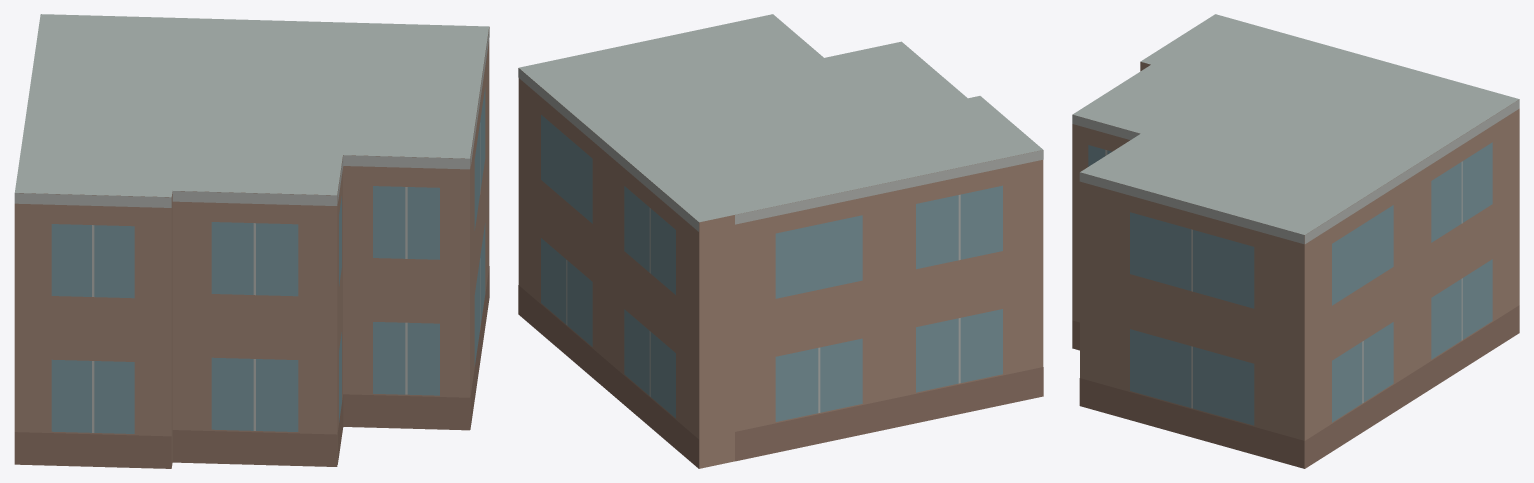
Rendered from survey-upis-32515399.glb.
The picture shows the model from 3 angles, left to right: view 1: azimuth 30°, elevation 25°; view 2: azimuth 150°, elevation 25°; view 3: azimuth 270°, elevation 25°; orthographic projection. The views are drawn at different scales.
Visible parts, largest first — view 1: survey-upis-32515399.tmp; view 2: survey-upis-32515399.tmp; view 3: survey-upis-32515399.tmp.
Part boxes in pixels (box(x1,y1,x2,y2)): survey-upis-32515399.tmp: box(14, 14, 489, 468); survey-upis-32515399.tmp: box(518, 14, 1043, 468); survey-upis-32515399.tmp: box(1072, 14, 1519, 468).
Bounding box in the file's own units: 12.38 × 6.1 × 10.59.
